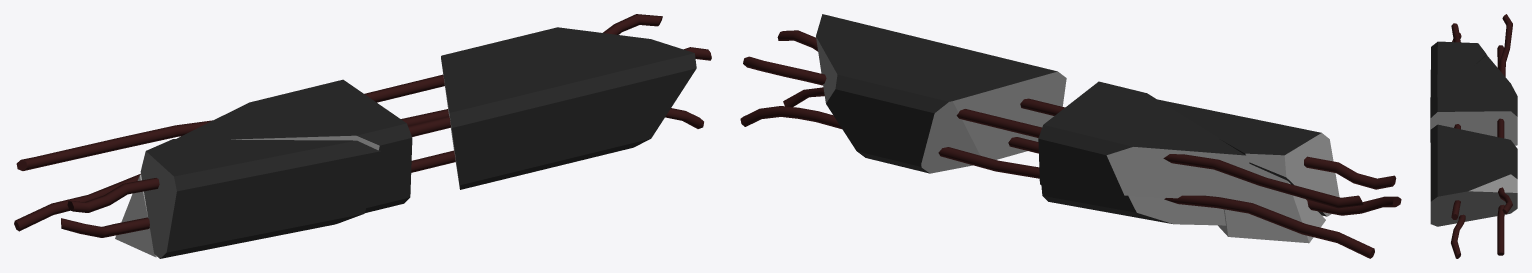
Rendered from P_PoutreCassé2.fbx.
3 views of the same model, side by side, from view 1: azimuth 30°, elevation 25°; view 2: azimuth 150°, elevation 25°; view 3: azimuth 270°, elevation 25° (orthographic). The views are drawn at different scales.
Visible parts, largest first — view 1: P_PoutreCassé2; view 2: P_PoutreCassé2; view 3: P_PoutreCassé2.
Part boxes in pixels (x1,y1,x2,y2): P_PoutreCassé2: [14, 14, 711, 258]; P_PoutreCassé2: [740, 14, 1401, 258]; P_PoutreCassé2: [1430, 14, 1517, 258].
Size of the model in its own units: 316 by 44.45 by 60.28.
